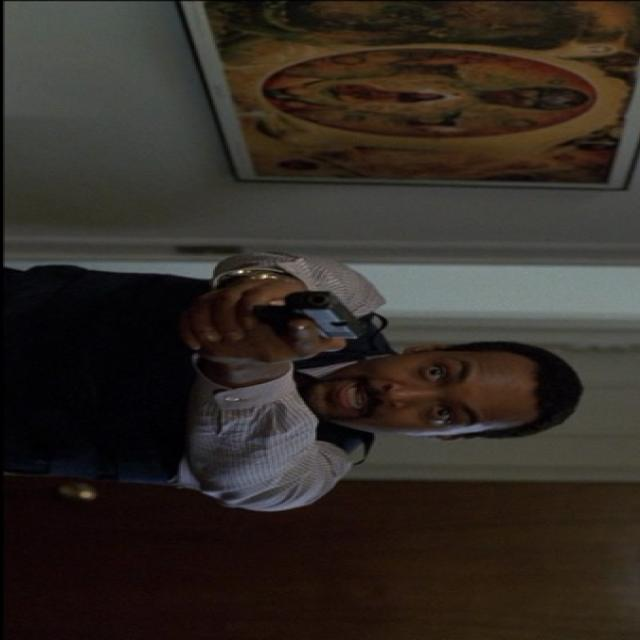weapons: (198, 268, 386, 364)
